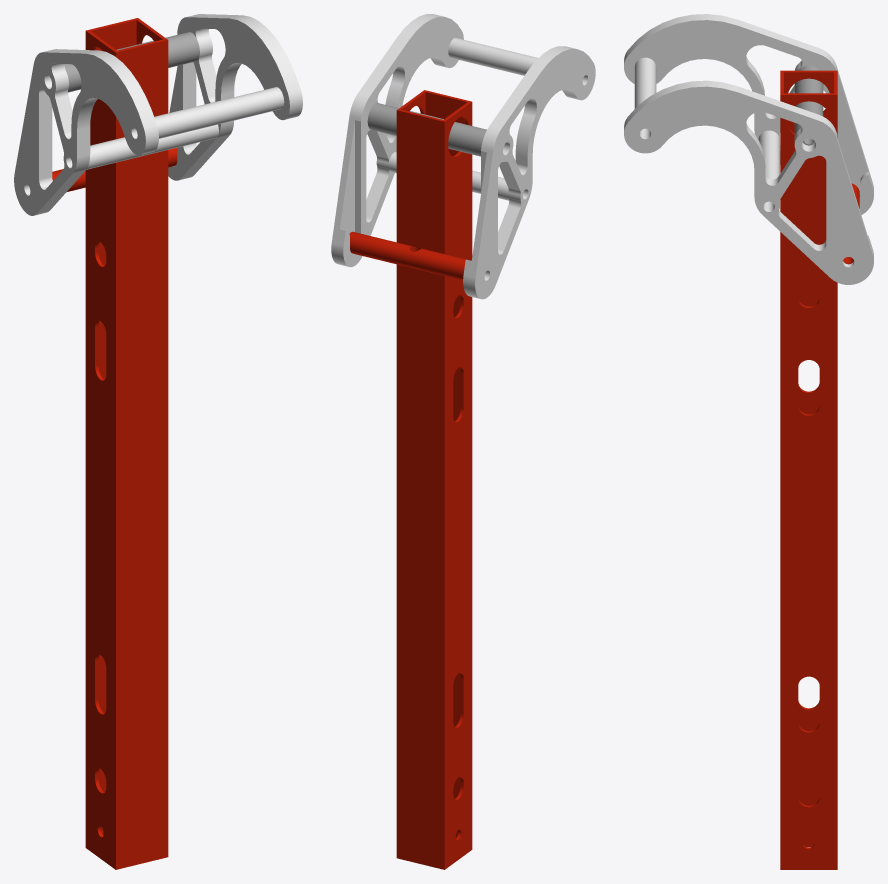
The picture shows the model from 3 angles, left to right: view 1: azimuth 30°, elevation 25°; view 2: azimuth 150°, elevation 25°; view 3: azimuth 270°, elevation 25°; orthographic projection. The views are drawn at different scales.
Parts seen in each view (by area): view 1: LIFT STAGE, CLIMB HOOK RIGHT, CLIMB HOOK LEFT, CLIMB HOOK STANDOFF, P-190B-260441, HOOK PIVOT SHAFT; view 2: LIFT STAGE, CLIMB HOOK RIGHT, CLIMB HOOK LEFT, EJECTING STANDOFF, HOOK PIVOT SHAFT, CLIMB HOOK STANDOFF, P-190B-260441; view 3: LIFT STAGE, CLIMB HOOK LEFT, CLIMB HOOK RIGHT, CLIMB HOOK STANDOFF, HOOK PIVOT SHAFT, P-190B-260441.
Part boxes in pixels (box(x1,y1,x2,y2)): LIFT STAGE: box(85, 18, 168, 869); CLIMB HOOK RIGHT: box(14, 49, 158, 215); CLIMB HOOK LEFT: box(168, 14, 302, 180); CLIMB HOOK STANDOFF: box(154, 87, 284, 138); P-190B-260441: box(86, 124, 218, 169); HOOK PIVOT SHAFT: box(64, 32, 199, 92); LIFT STAGE: box(396, 90, 472, 869); CLIMB HOOK RIGHT: box(463, 46, 595, 299); CLIMB HOOK LEFT: box(331, 14, 463, 267); EJECTING STANDOFF: box(349, 231, 471, 280); HOOK PIVOT SHAFT: box(367, 103, 486, 156); CLIMB HOOK STANDOFF: box(448, 38, 537, 75); P-190B-260441: box(388, 152, 509, 200); LIFT STAGE: box(780, 70, 837, 869); CLIMB HOOK LEFT: box(624, 80, 873, 284); CLIMB HOOK RIGHT: box(624, 14, 873, 214); CLIMB HOOK STANDOFF: box(634, 57, 656, 132); HOOK PIVOT SHAFT: box(794, 65, 823, 145); P-190B-260441: box(758, 130, 779, 205).
Bounding box in the file's own units: 0.0762 × 0.3946 × 0.1107.
